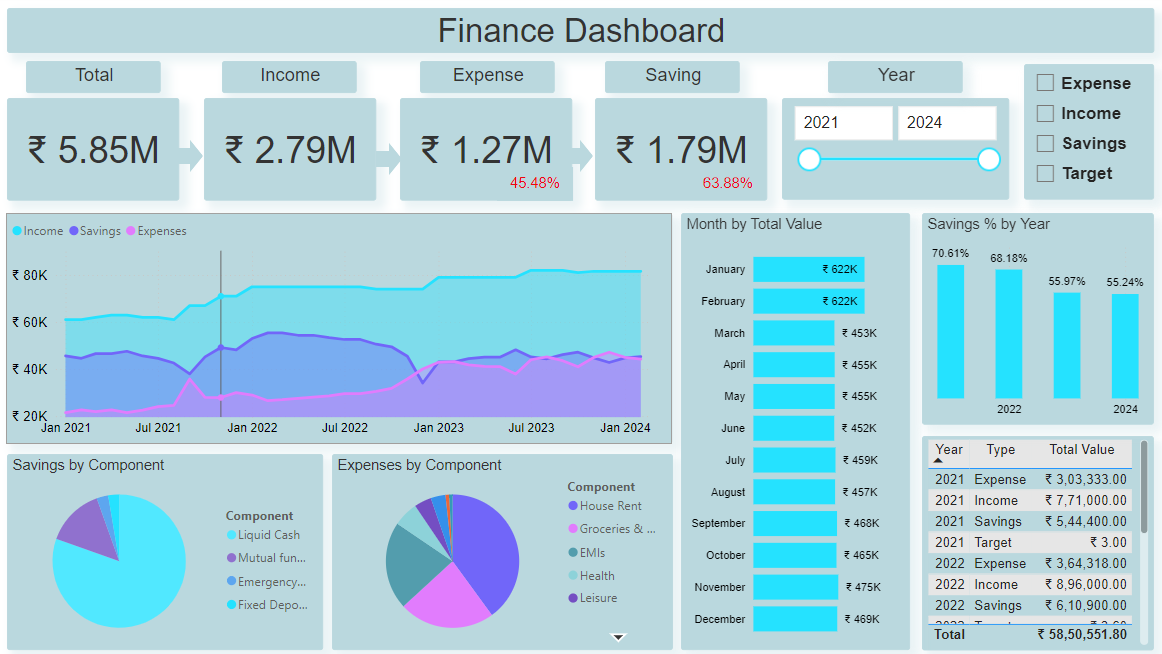

This screenshot's page, from the dashboard's own definition file:
{"tool":"powerbi","page":{"name":"Page 1","canvas":[1280,720],"ordinal":0},"visuals":[{"type":"card","title":"Total value","fields":{"Values":["All Measures.Total Value"]},"box":[14.2,112.3,188.4,112.3],"z":0},{"type":"pieChart","fields":{"Y":["All Measures.Savings"],"Category":["FinData.Component"]},"box":[14.2,500.9,344.8,213.9],"z":1000},{"type":"tableEx","fields":{"Values":["FinData.Year","FinData.Type","All Measures.Total Value"]},"box":[1012.7,481.2,253.2,233.5],"z":2000},{"type":"areaChart","fields":{"Category":["FinData.Date.Variation.Date Hierarchy.Year","FinData.Date.Variation.Date Hierarchy.Quarter","FinData.Date.Variation.Date Hierarchy.Month","FinData.Date.Variation.Date Hierarchy.Day"],"Y":["All Measures.Income","All Measures.Savings","All Measures.Expenses"]},"box":[13.1,237.9,726.8,252.1],"z":3000},{"type":"actionButton","title":"Finance Dashboard","box":[14.2,14.2,1251.6,48.8],"z":4000},{"type":"actionButton","title":"Total ","box":[34.8,72.3,147.1,34.8],"z":5000},{"type":"card","fields":{"Values":["All Measures.Income"]},"box":[228.8,112.3,188.4,112.3],"z":6000},{"type":"actionButton","title":"Income","box":[249,72.3,147.1,34.8],"z":7000},{"type":"actionButton","title":"Expense","box":[464.5,72.3,147.1,34.8],"z":8000},{"type":"actionButton","title":"Saving","box":[667.1,72.3,147.1,34.8],"z":9000},{"type":"group","id":"g1","title":"Group 1","box":[443.4,112.3,188.4,112.3],"z":10000},{"type":"group","id":"g2","title":"Group 2","box":[655.5,112.3,188.4,112.3],"z":11000},{"type":"shape","box":[200,158.7,28.4,34.8],"z":12000},{"type":"shape","box":[625.8,158.7,28.4,34.8],"z":13000},{"type":"shape","box":[230,188.7,28.4,34.8],"z":14000},{"type":"shape","box":[416.8,161.3,28.4,34.8],"z":15000},{"type":"card","fields":{"Values":["All Measures.Expenses"]},"box":[443.4,112.3,188.4,112.3],"z":16000,"group":"g1"},{"type":"slicer","title":"Year","fields":{"Values":["Selected Date.Year"]},"box":[859.4,112.3,247.7,111],"z":16000},{"type":"actionButton","title":"Year","box":[909.7,72.3,147.1,34.8],"z":17000},{"type":"card","fields":{"Values":["All Measures.Savings"]},"box":[655.5,112.3,188.4,112.3],"z":17000,"group":"g2"},{"type":"slicer","fields":{"Values":["FinData.Type"]},"box":[1123.6,75.2,142.2,148.3],"z":18000},{"type":"card","fields":{"Values":["All Measures.Savings %"]},"box":[758.6,193.5,82.6,25.8],"z":18000,"group":"g2"},{"type":"card","fields":{"Values":["All Measures.Expenses %"]},"box":[549.2,187.1,82.6,37.4],"z":19000,"group":"g1"},{"type":"pieChart","fields":{"Y":["All Measures.Expenses"],"Category":["FinData.Component"]},"box":[368.8,500.9,372.1,213.9],"z":19000},{"type":"barChart","title":"Month by  Total Value","fields":{"Category":["FinData.Date.Variation.Date Hierarchy.Month"],"Y":["All Measures.Total Value"]},"box":[749.7,237.9,249.9,476.9],"z":20000},{"type":"columnChart","fields":{"Category":["FinData.Date.Variation.Date Hierarchy.Year"],"Y":["All Measures.Savings %"]},"box":[1012.7,237.9,253.2,231.3],"z":21000}]}

Visuals, with their boxes in screenshot pixels (x1, y1, x2, y2), scaled from the page's 1280x720 canvas onto the 1162x654 screenshot:
"Total value" card: 13 102 184 204
pieChart - All Measures.Savings x FinData.Component: 13 455 326 649
tableEx - FinData.Year x FinData.Type: 919 437 1149 649
areaChart - FinData.Date.Variation.Date Hierarchy.Year x FinData.Date.Variation.Date Hierarchy.Quarter: 12 216 672 445
"Finance Dashboard" actionButton: 13 13 1149 57
"Total " actionButton: 32 66 165 97
card - All Measures.Income: 208 102 379 204
"Income" actionButton: 226 66 360 97
"Expense" actionButton: 422 66 555 97
"Saving" actionButton: 606 66 739 97
"Group 1" group: 403 102 574 204
"Group 2" group: 595 102 766 204
shape: 182 144 207 176
shape: 568 144 594 176
shape: 209 171 235 203
shape: 378 147 404 178
card - All Measures.Expenses: 403 102 574 204
"Year" slicer: 780 102 1005 203
"Year" actionButton: 826 66 959 97
card - All Measures.Savings: 595 102 766 204
slicer - FinData.Type: 1020 68 1149 203
card - All Measures.Savings %: 689 176 764 199
card - All Measures.Expenses %: 499 170 574 204
pieChart - All Measures.Expenses x FinData.Component: 335 455 673 649
"Month by  Total Value" barChart: 681 216 907 649
columnChart - FinData.Date.Variation.Date Hierarchy.Year x All Measures.Savings %: 919 216 1149 426
